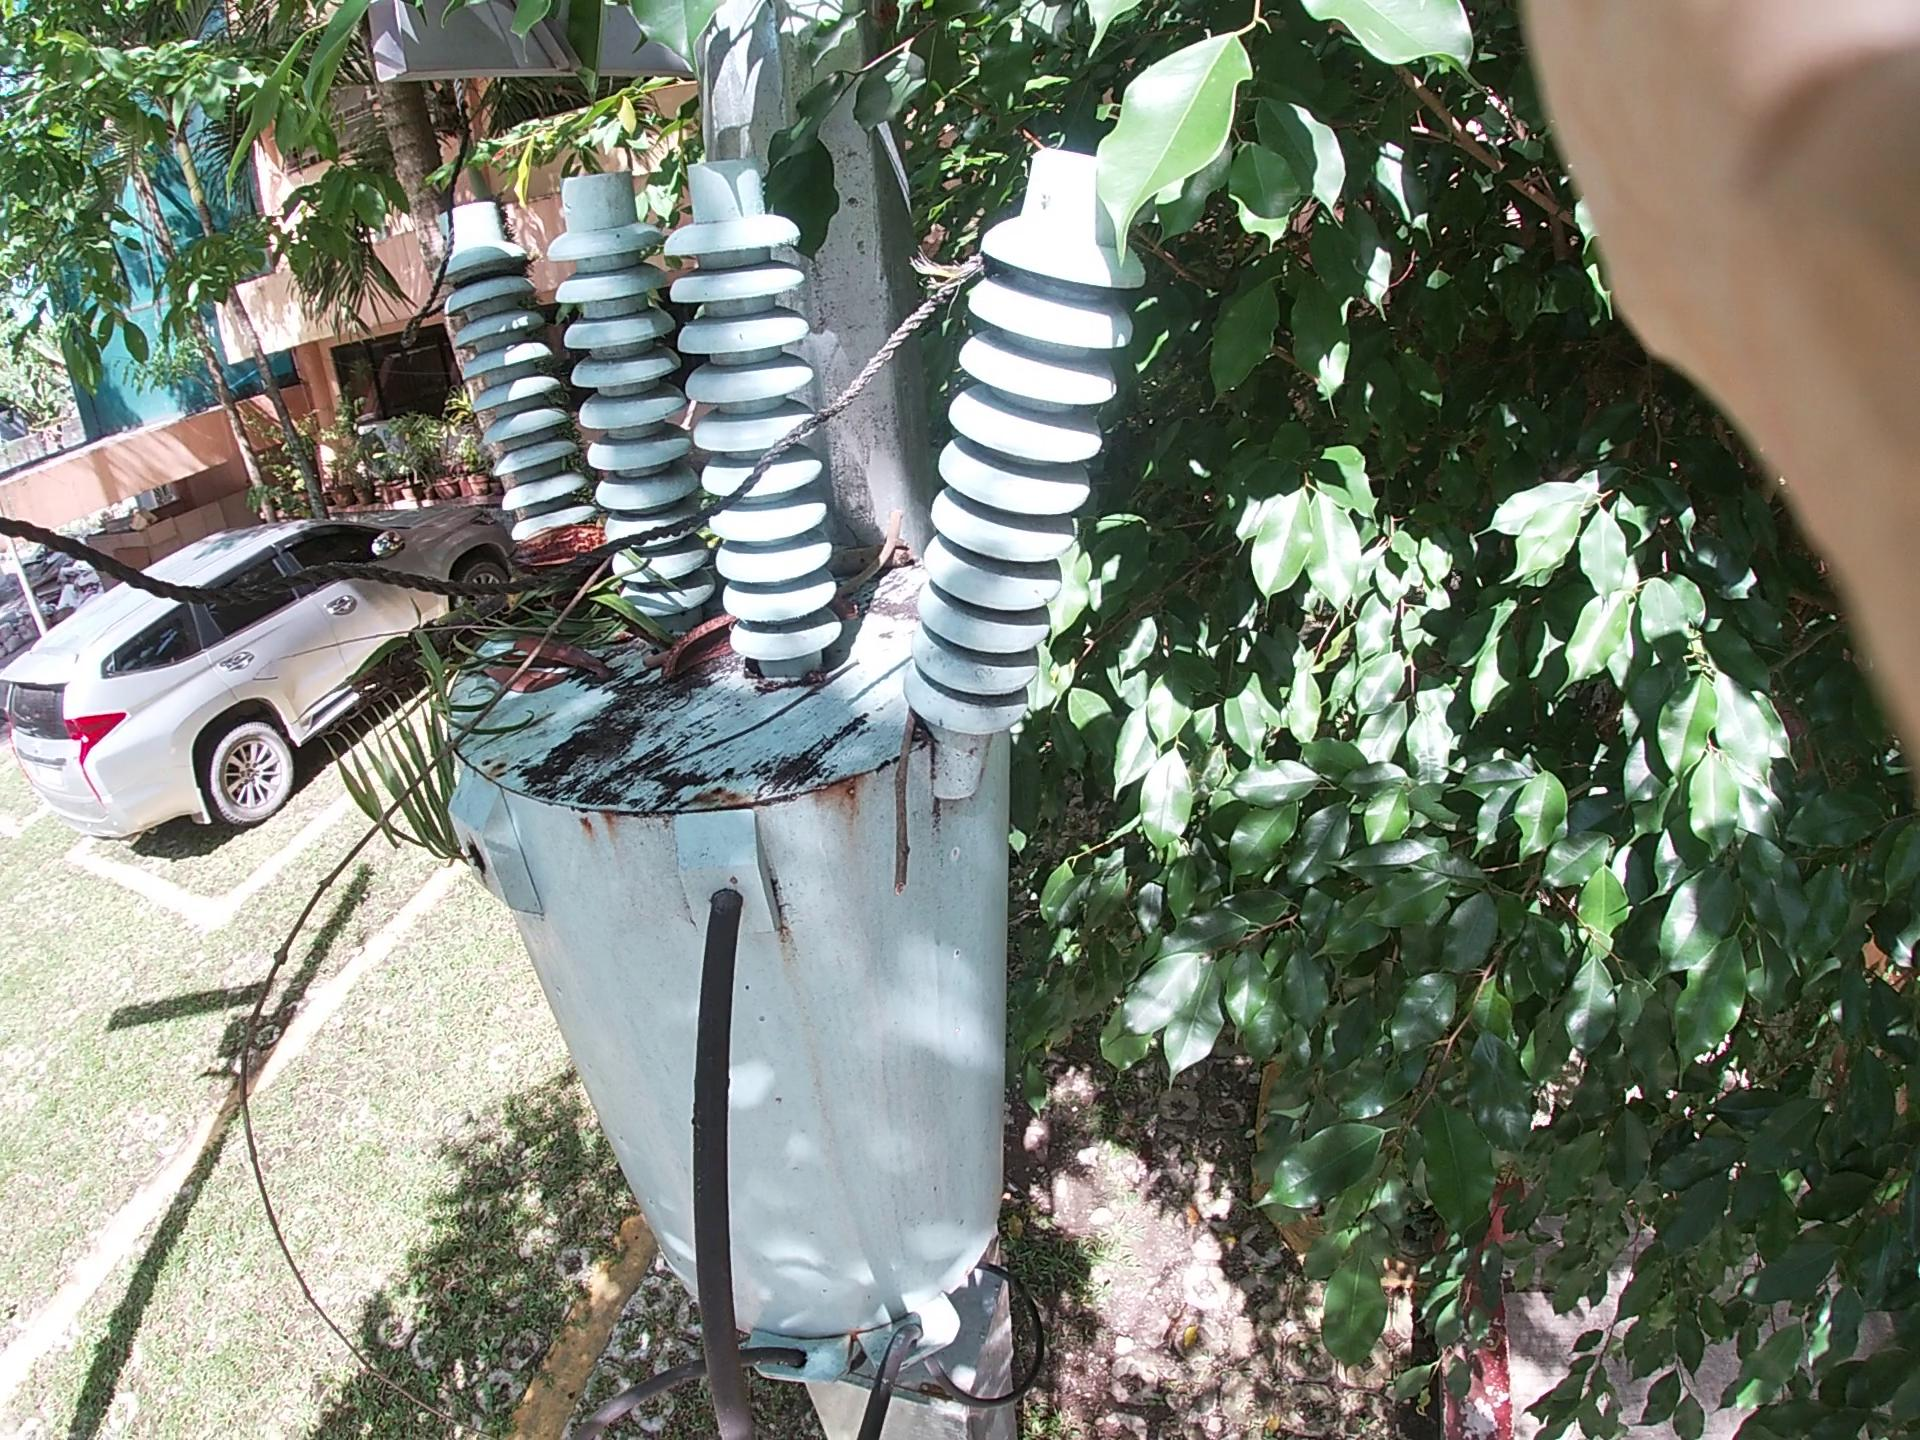branch with leaves: (392, 455, 801, 717)
leaf: (454, 563, 581, 731)
mahogany fruit: (618, 588, 773, 734), (481, 504, 641, 625)
tree branch: (311, 511, 652, 909), (649, 501, 981, 687), (884, 622, 918, 1015)
